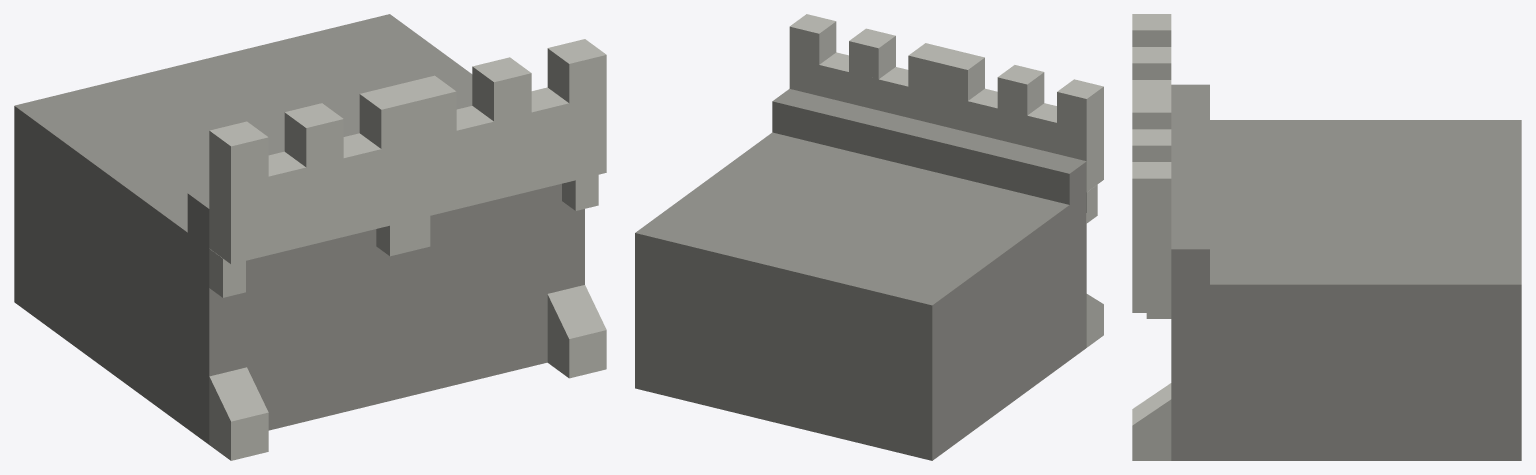
File: 1x1x5_onesided.fbx
3 renders of one model, left to right at view 1: azimuth 30°, elevation 25°; view 2: azimuth 150°, elevation 25°; view 3: azimuth 270°, elevation 25°, orthographic. The views are drawn at different scales.
Parts seen in each view (by area): view 1: polySurface12; view 2: polySurface12; view 3: polySurface12.
Boxes of the visible parts, x1,y1,x2,y2 form: polySurface12: [14, 14, 606, 460]; polySurface12: [635, 14, 1103, 460]; polySurface12: [1132, 14, 1521, 460].
Bounding box in the file's own units: 100 × 80 × 100.
1 material, 1 textured.
